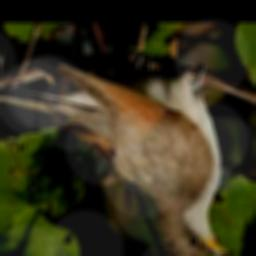Cuckoo: (53, 64, 234, 256)
